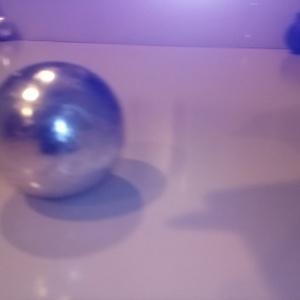alive_ball: (1, 60, 123, 200), (1, 14, 14, 38)
dead_ball: (284, 23, 300, 53)
